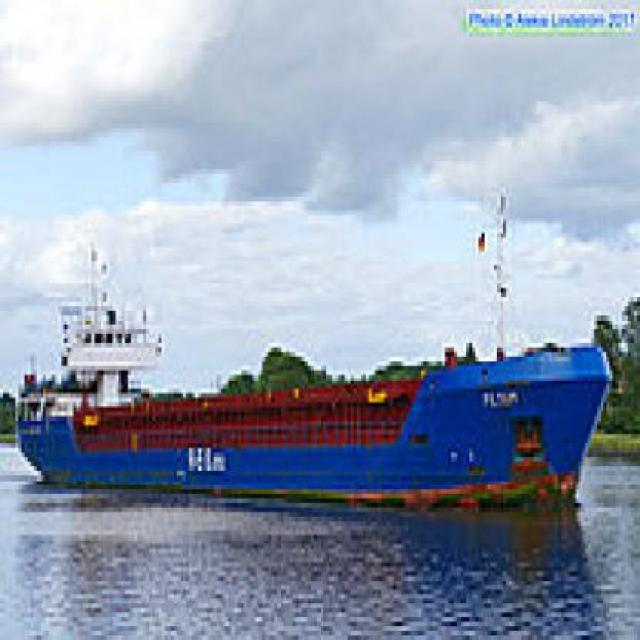container: (11, 270, 617, 527)
